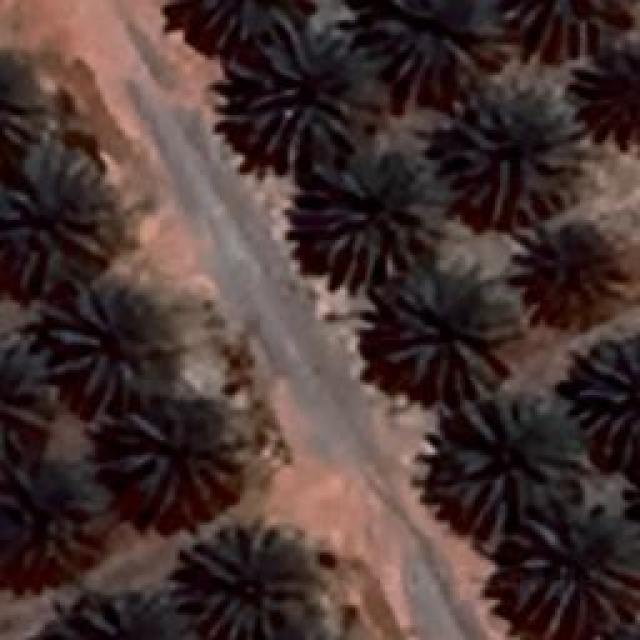PalmTree: (434, 392, 588, 540), (434, 80, 588, 222), (295, 140, 440, 282), (380, 260, 522, 402), (68, 62, 606, 99), (220, 30, 352, 170), (131, 22, 563, 62), (175, 520, 320, 638), (500, 527, 640, 640), (105, 400, 238, 518), (47, 282, 165, 402), (0, 155, 102, 290), (375, 0, 503, 95), (2, 458, 96, 582), (518, 218, 622, 322), (575, 346, 640, 479), (0, 331, 60, 459), (56, 585, 182, 640), (178, 0, 314, 48), (0, 51, 39, 162)
